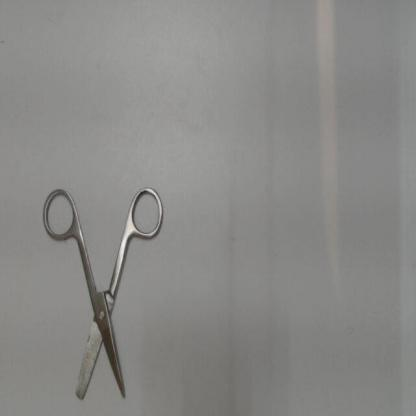Dressing Scissors: (36, 176, 173, 415)
